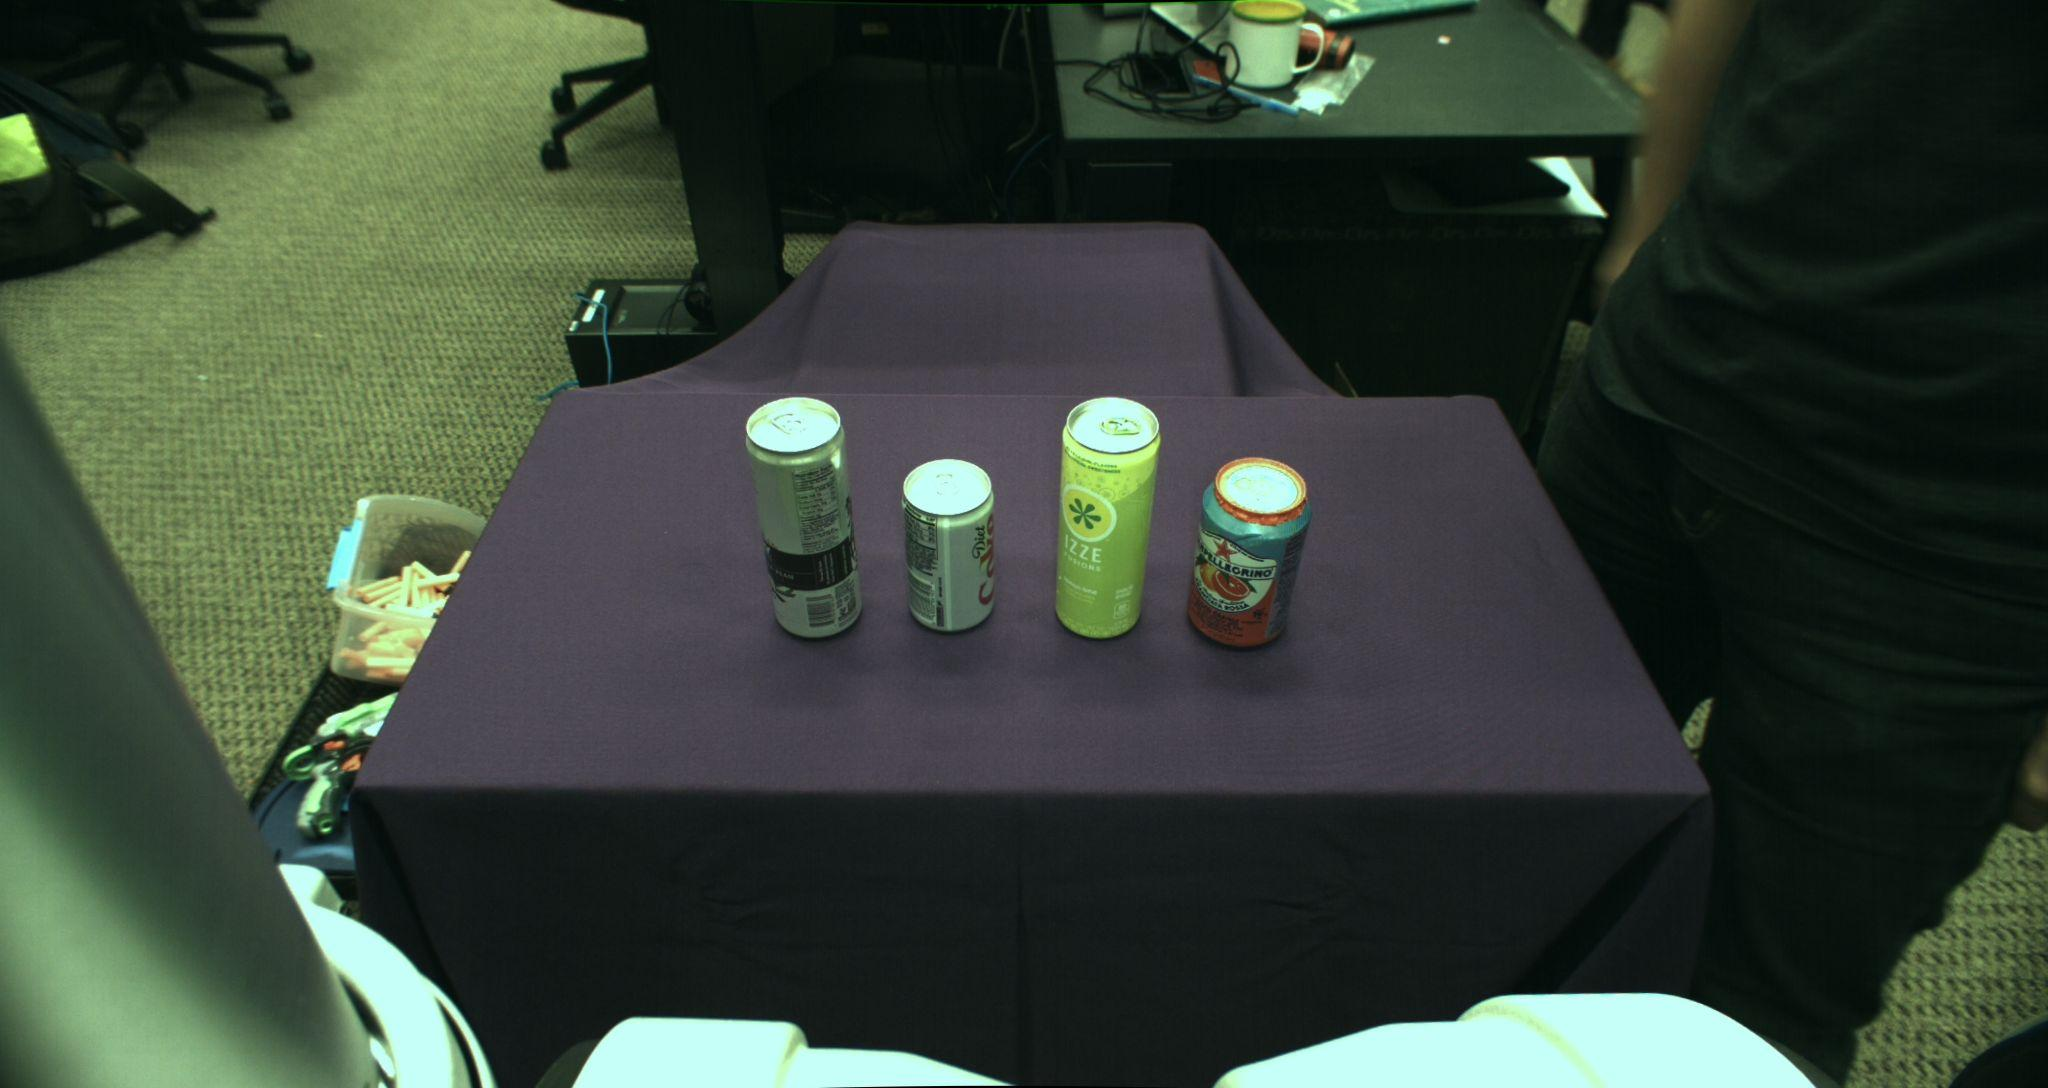can_diet_coke_small: (901, 458, 998, 630)
can_dry_sparkling_vanilla_bean: (745, 396, 863, 640)
can_izze_fusions_lemon_lime: (1052, 396, 1161, 640)
can_sanpellegrino_blood_orange: (1187, 455, 1313, 649)
